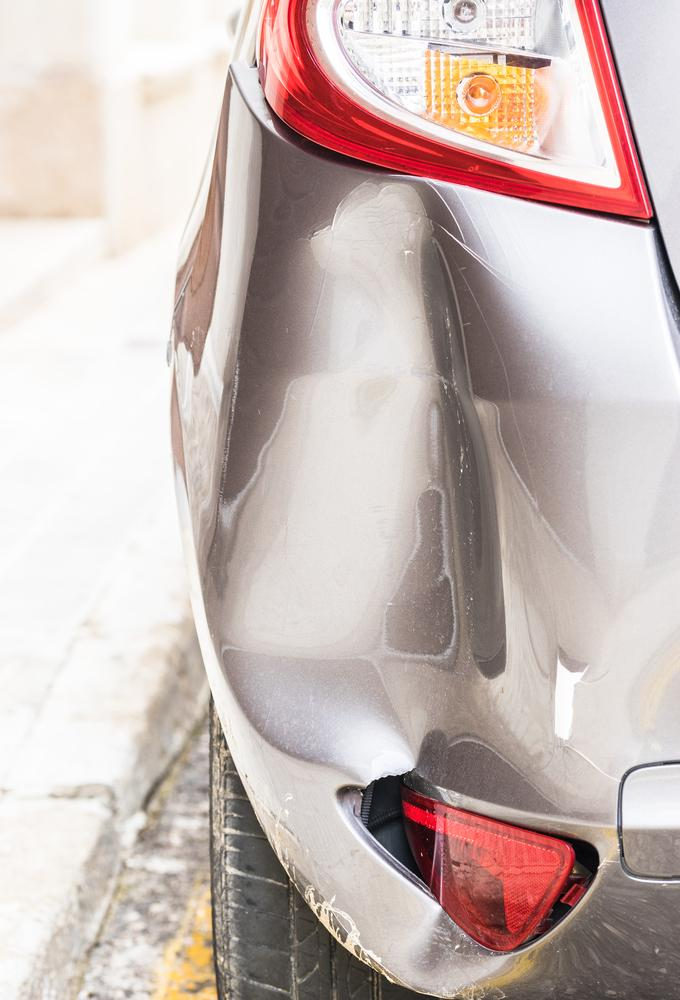dent: (214, 181, 600, 804)
scratch: (259, 788, 381, 971)
